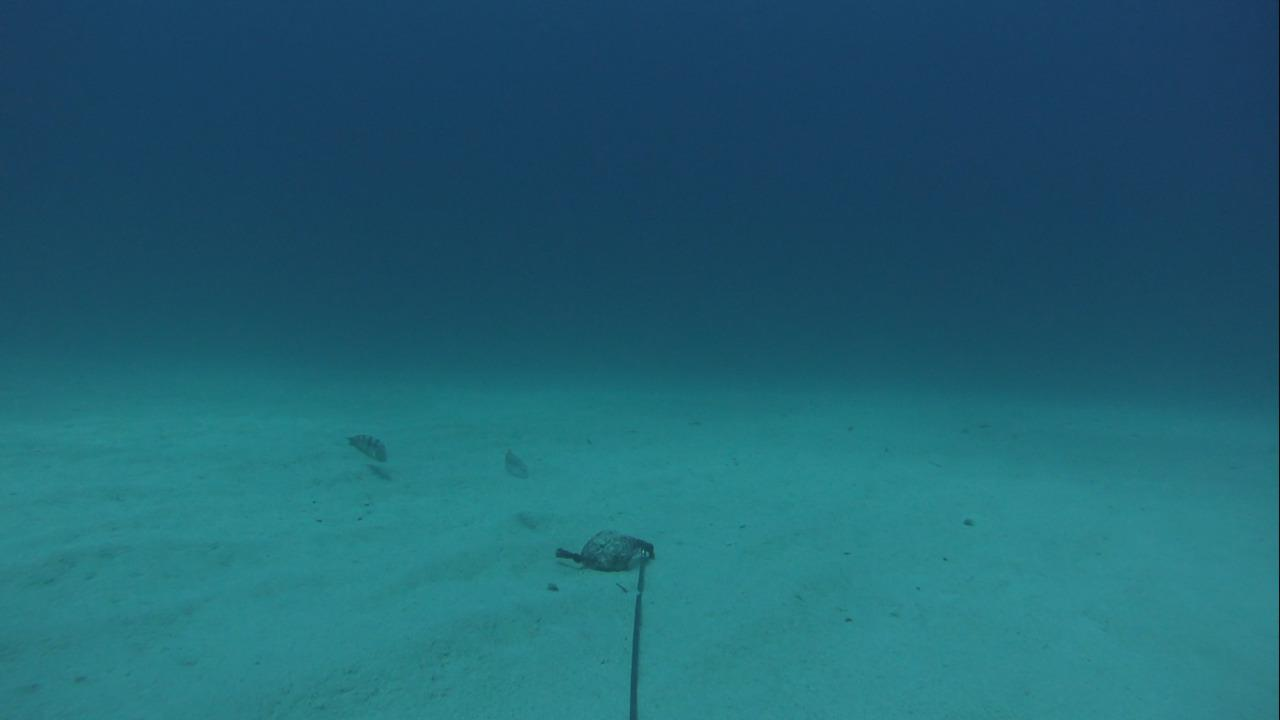raor: (343, 425, 388, 460), (498, 441, 534, 477)
